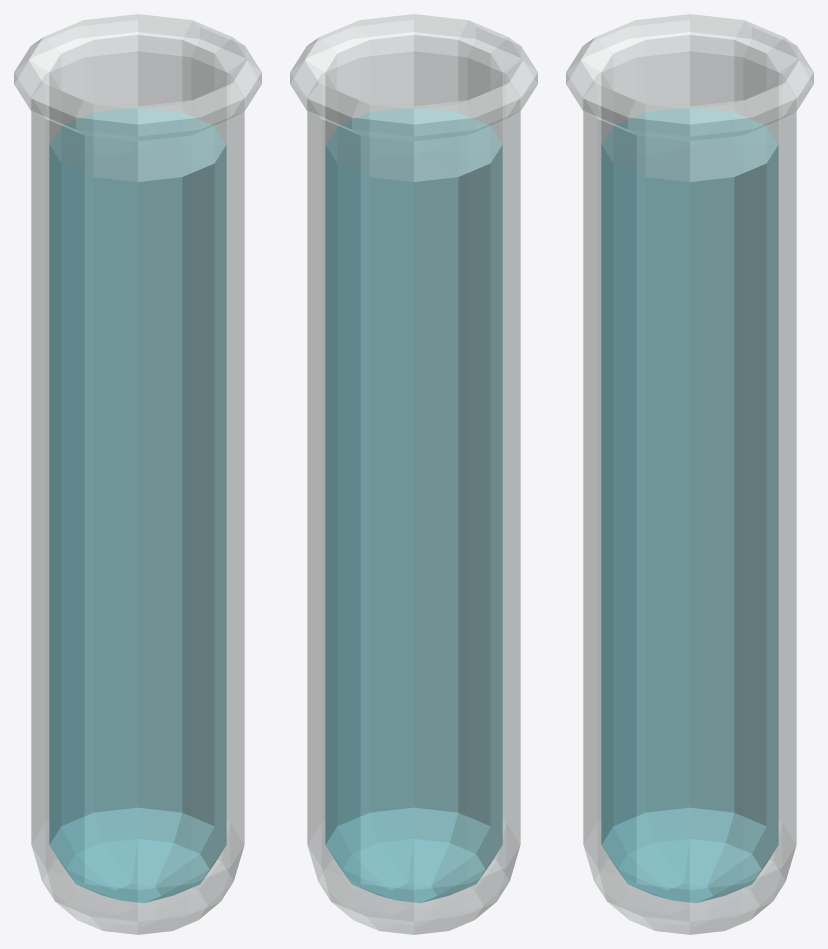
The model's file is TestTubeBlue.glb.
3 views of the same model, side by side, from view 1: azimuth 30°, elevation 25°; view 2: azimuth 150°, elevation 25°; view 3: azimuth 270°, elevation 25° (orthographic).
Visible parts, largest first — view 1: group396116694; view 2: group396116694; view 3: group396116694.
Boxes of the visible parts, box(x1,y1,x2,y2) form: group396116694: box(14, 14, 261, 934); group396116694: box(290, 14, 537, 934); group396116694: box(566, 14, 813, 934).
Bounding box in the file's own units: 0.186 × 0.71 × 0.186.
